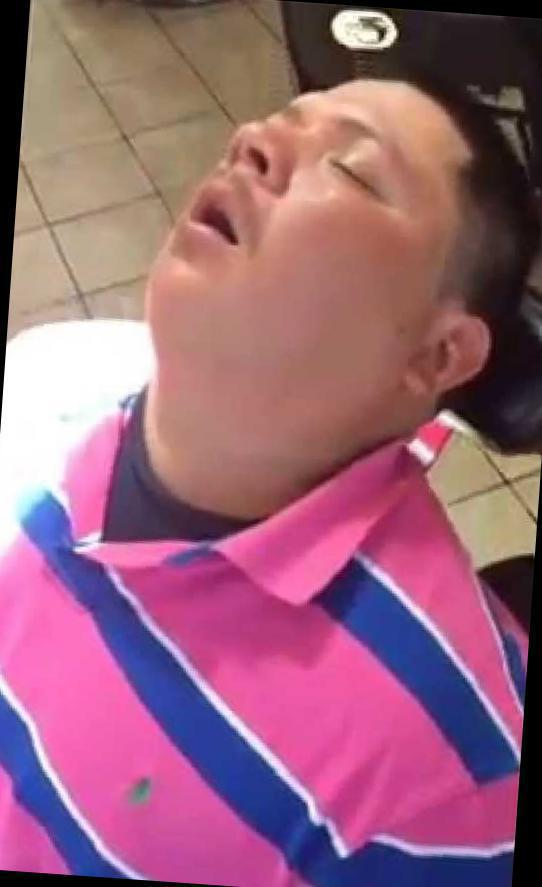Drunk: (165, 80, 436, 344)
